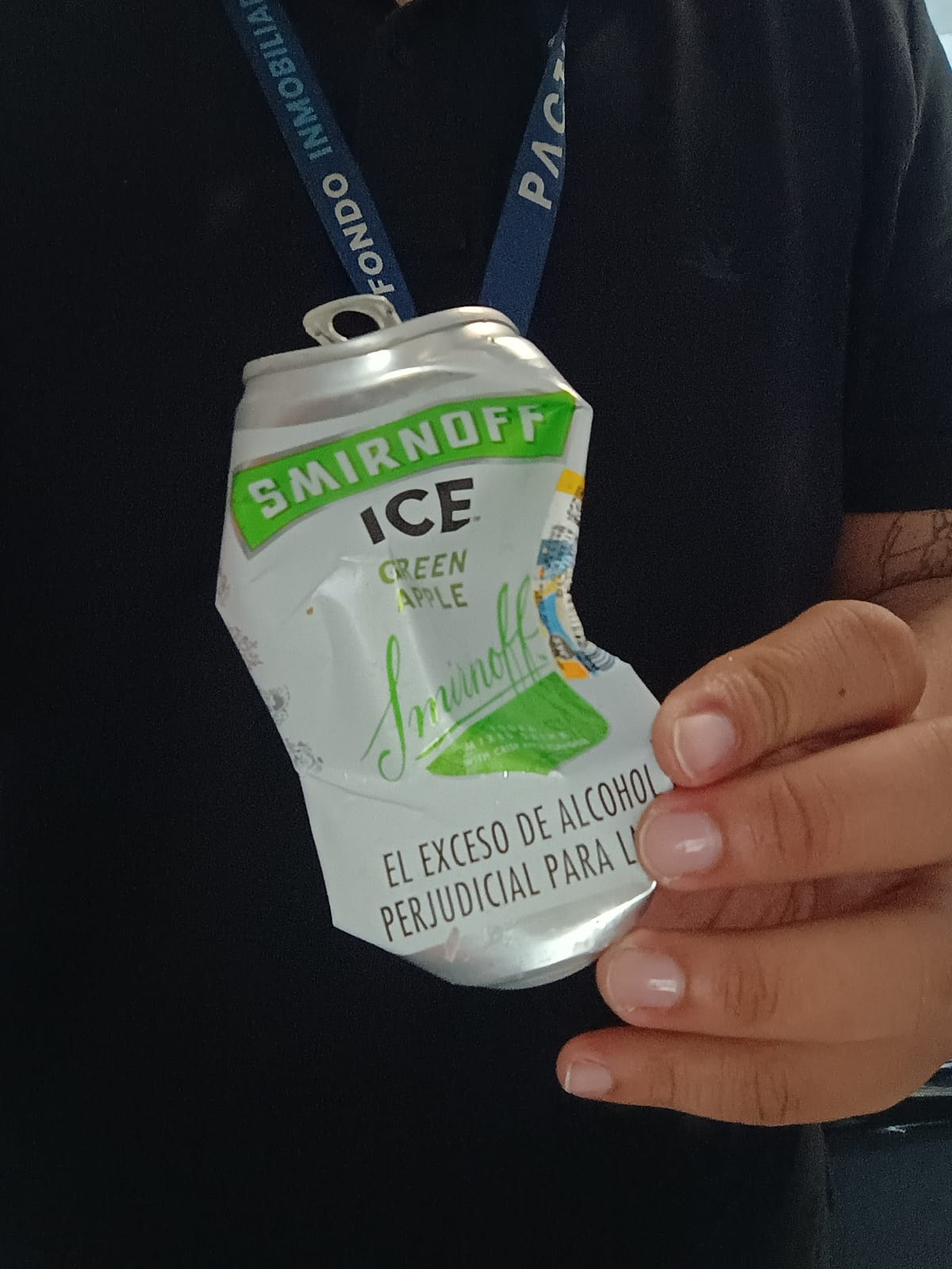Metal: (212, 296, 692, 989)
